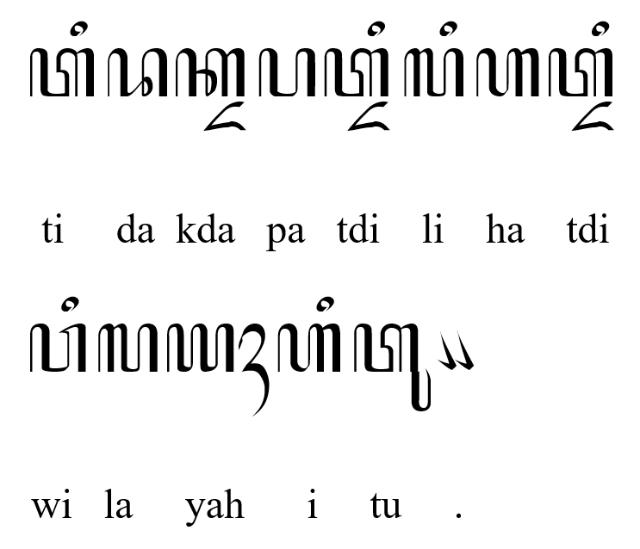_d: (202, 100, 248, 132), (346, 101, 390, 133), (570, 100, 614, 132)
_h1: (238, 323, 270, 417)
d: (105, 47, 168, 98), (96, 323, 160, 373)
h: (474, 47, 540, 99), (277, 322, 341, 374)
i: (69, 20, 89, 38), (590, 20, 610, 38), (439, 20, 458, 37), (60, 296, 80, 312), (316, 295, 334, 312), (367, 20, 385, 36)
k: (174, 46, 246, 98)
kom: (437, 329, 457, 373), (454, 328, 474, 372)
l: (402, 48, 464, 96)
p: (258, 47, 316, 97)
t: (546, 48, 614, 98), (324, 47, 388, 98), (29, 48, 95, 97)
tu: (352, 322, 432, 412)
w: (29, 322, 87, 374)
y: (165, 323, 235, 374)
